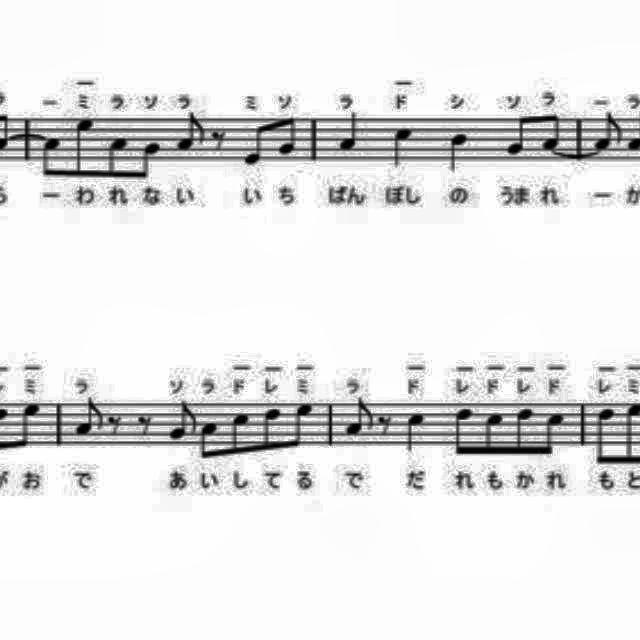Eighth-note: (163, 396, 201, 444), (591, 404, 619, 468), (14, 396, 44, 452), (68, 395, 106, 439), (72, 111, 96, 179), (174, 105, 206, 155), (588, 110, 626, 152), (448, 406, 476, 460), (102, 135, 132, 183), (344, 396, 376, 440), (289, 399, 317, 448), (38, 136, 66, 184), (504, 110, 532, 158), (481, 406, 505, 458), (542, 407, 566, 459), (513, 403, 535, 459), (228, 408, 252, 458), (242, 120, 266, 168), (260, 405, 284, 453), (138, 138, 164, 182), (538, 108, 562, 154), (197, 418, 221, 462), (277, 111, 299, 157)
Eighth-rest: (205, 124, 229, 156), (105, 408, 127, 440), (372, 409, 396, 438), (134, 410, 158, 438)
Quarter-note: (334, 108, 362, 156), (443, 130, 471, 178), (389, 124, 415, 168), (402, 410, 426, 452)
